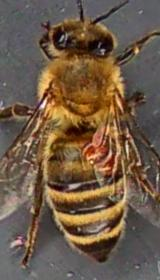varroa_mite: (78, 130, 112, 164)
